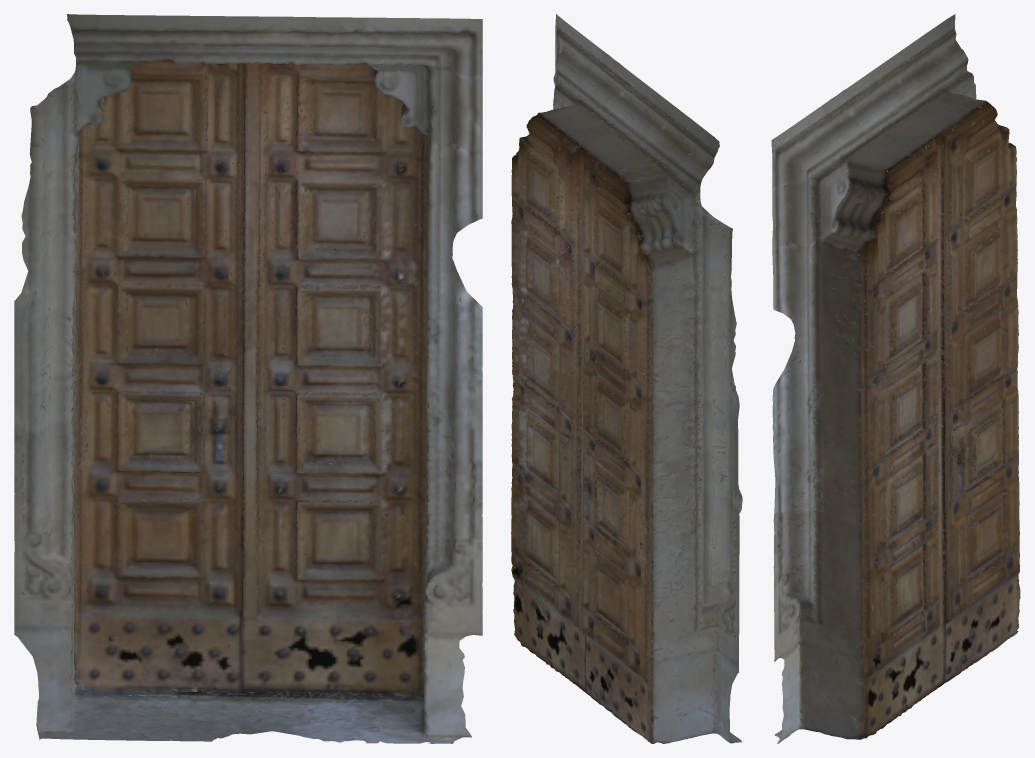
3 renders of one model, left to right at view 1: azimuth 30°, elevation 25°; view 2: azimuth 150°, elevation 25°; view 3: azimuth 270°, elevation 25°, orthographic. The views are drawn at different scales.
Visible parts, largest first — view 1: low-poly-40k-decimate_0; view 2: low-poly-40k-decimate_0; view 3: low-poly-40k-decimate_0.
Boxes of the visible parts, box(x1,y1,x2,y2) form: low-poly-40k-decimate_0: box(14, 14, 482, 743); low-poly-40k-decimate_0: box(511, 14, 742, 743); low-poly-40k-decimate_0: box(771, 14, 1020, 743).
Size of the model in its own units: 2.1 by 4.14 by 1.54.
1 material, 1 textured.
